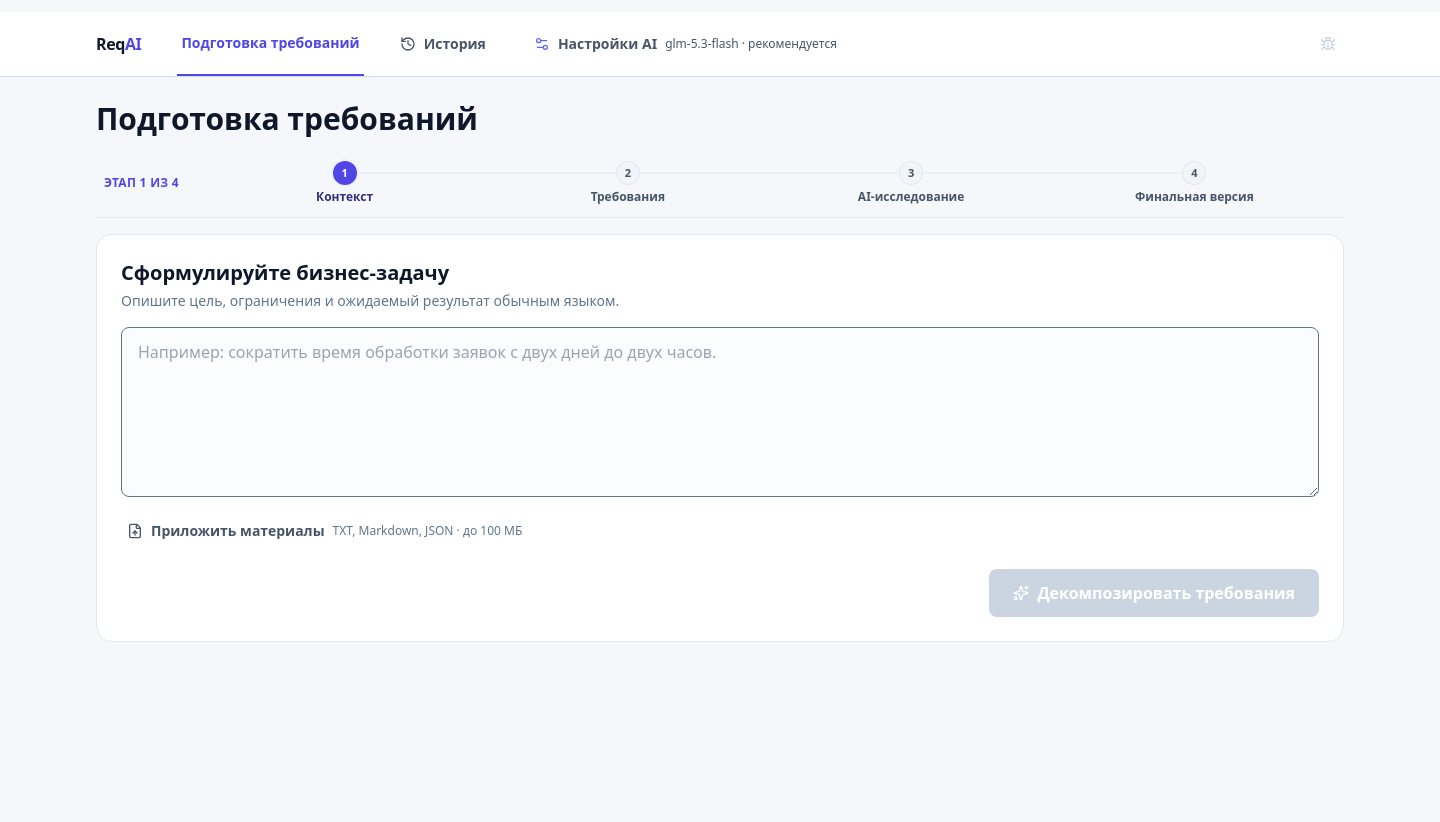
it: next-run settings restore per actor and old disabled migrates to low for GLM
The image size is (1440, 822).
Later steps or results of the test are not shown.
Click the heading labelled "Настройки AI" at (685, 44), box [534,34,837,53]
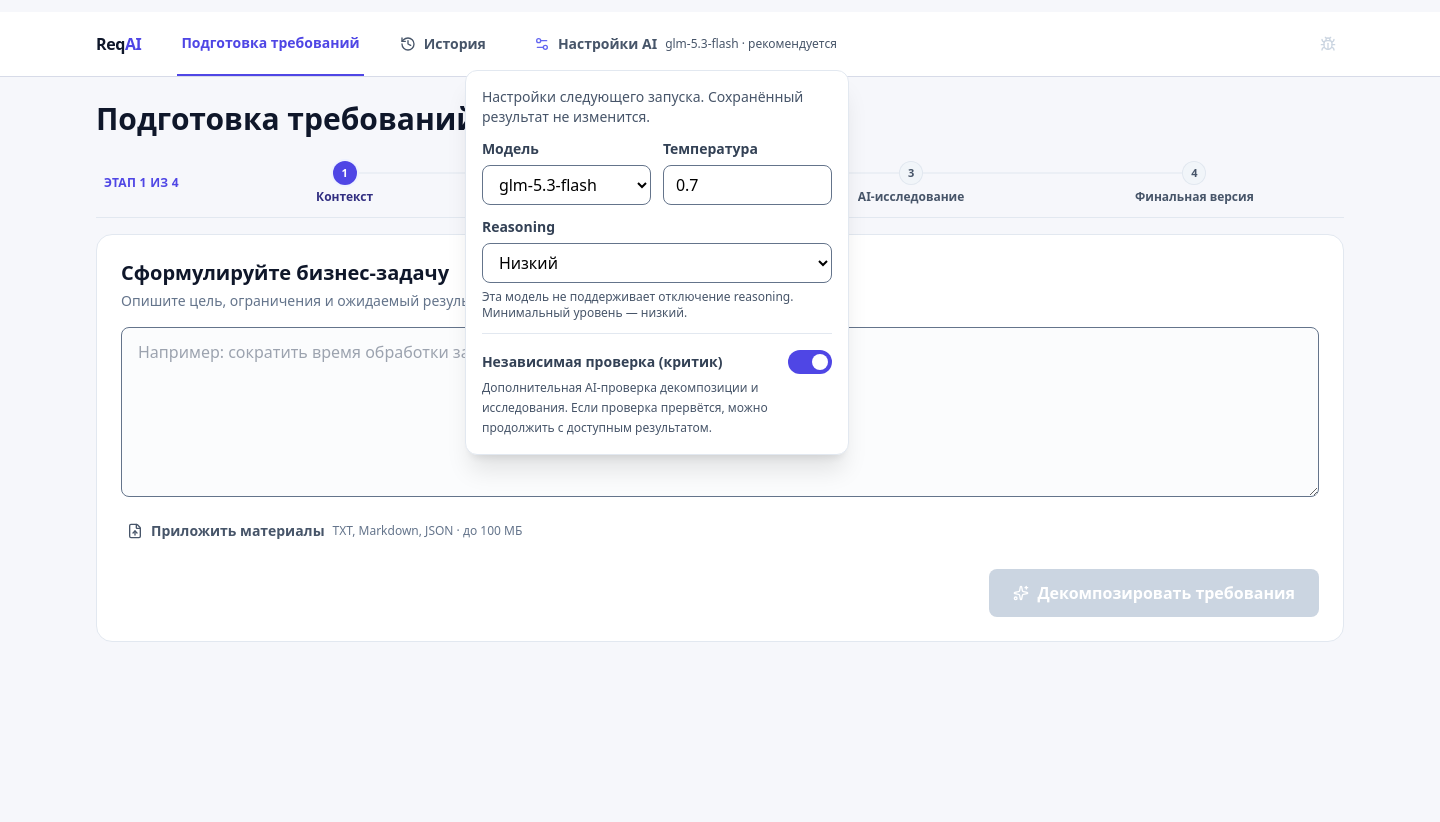
Result: the dropdown labelled "Модель" shows "glm-5.3-flash" at [482,165,651,205]
Result: the dropdown labelled "Reasoning" shows "Низкий" at [482,243,832,283]
Result: the number field labelled "Температура" holds "0.7" at [663,165,832,205]
Click the switch labelled "Независимая проверка (критик)" at (657, 362), box [482,346,832,378]
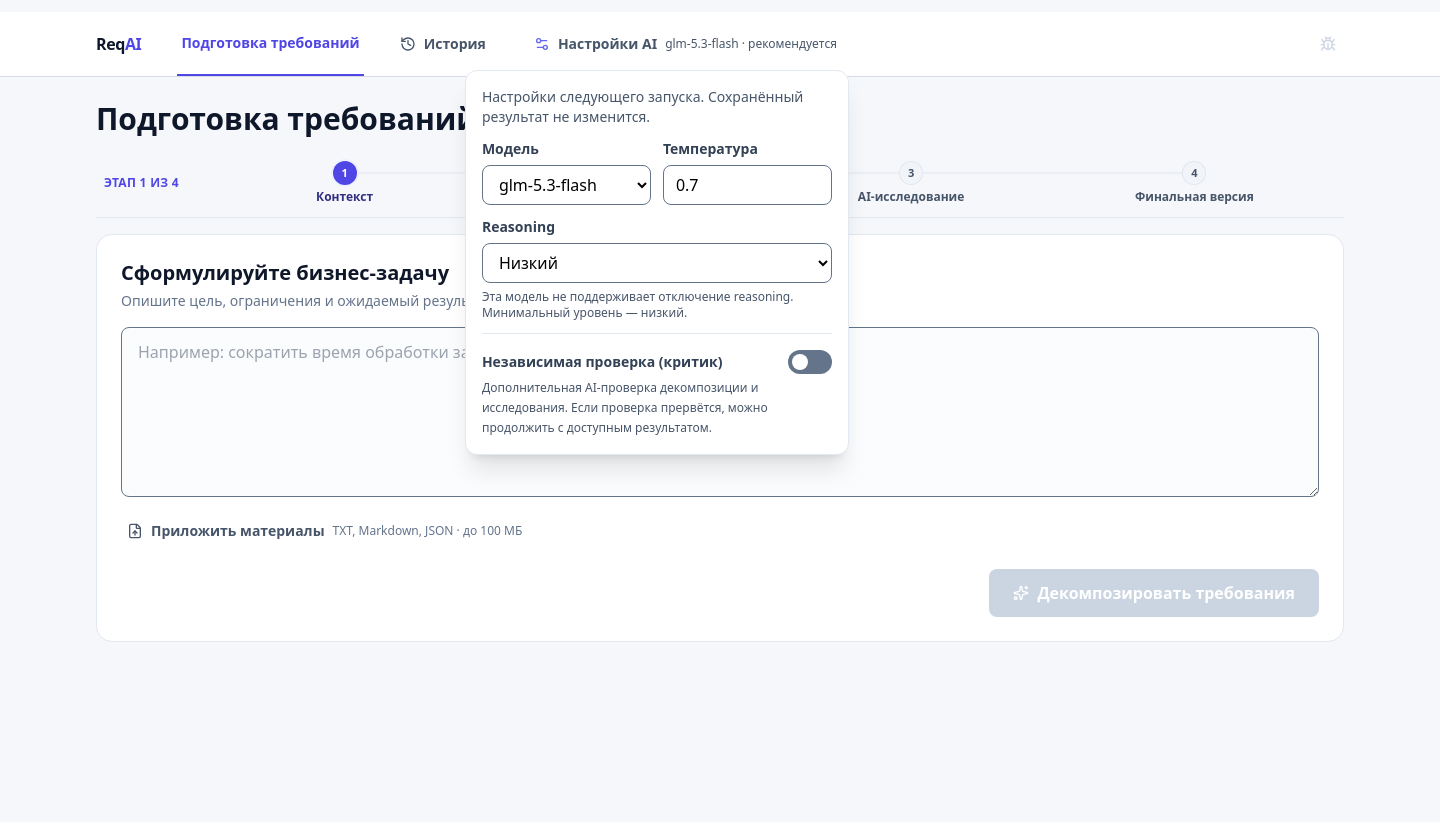
Result: the switch labelled "Независимая проверка (критик)" is not checked at [482,346,832,378]
